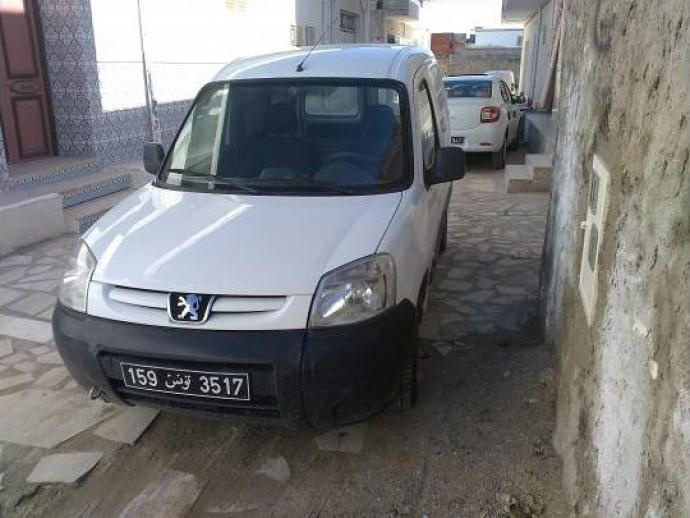LP: (120, 360, 252, 402)
